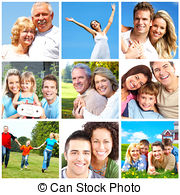face: (64, 129, 93, 176), (87, 121, 116, 162), (26, 1, 58, 34), (9, 16, 38, 50), (145, 60, 178, 89), (128, 2, 154, 36), (122, 63, 150, 93), (137, 79, 161, 113), (150, 11, 175, 43), (93, 64, 116, 97), (70, 62, 92, 92), (3, 68, 24, 94), (39, 75, 58, 102), (20, 69, 35, 95), (150, 138, 165, 162), (161, 137, 178, 157), (125, 142, 142, 160), (138, 137, 150, 155), (88, 19, 106, 31), (1, 122, 10, 135), (48, 131, 56, 141), (23, 140, 31, 148)
